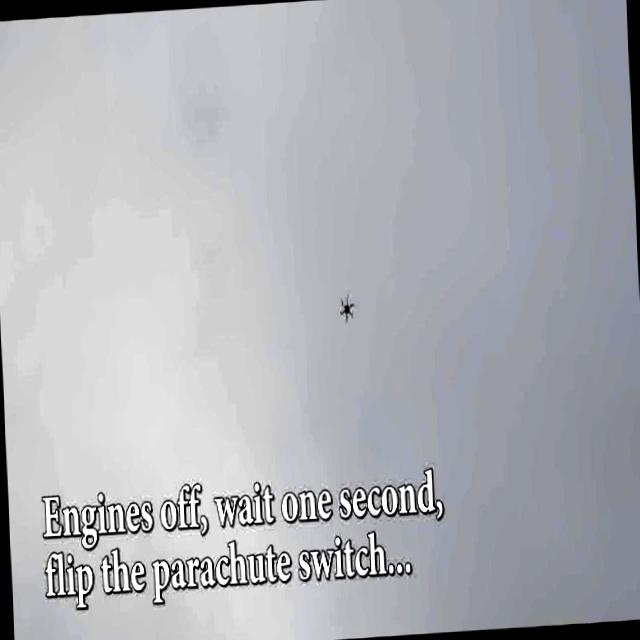drone: (335, 284, 360, 326)
